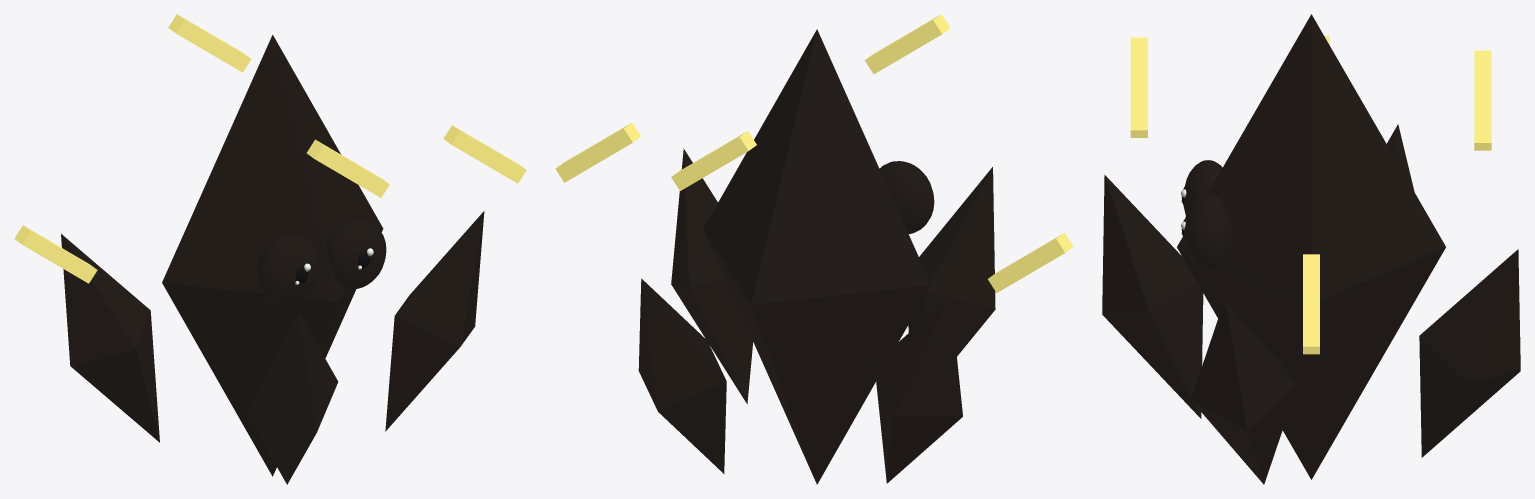
File: cristalord.glb
3 renders of one model, left to right at view 1: azimuth 30°, elevation 25°; view 2: azimuth 150°, elevation 25°; view 3: azimuth 270°, elevation 25°, orthographic. The views are drawn at different scales.
Visible parts, largest first — view 1: malha__contorno (×6), malha__semsombra (×4); view 2: malha__contorno (×6), malha__semsombra (×4); view 3: malha__contorno (×7), malha__semsombra (×3).
Boxes of the visible parts, x1=… form: malha__contorno (×6): x1=61, y1=35, x2=484, y2=484; malha__semsombra (×4): x1=14, y1=14, x2=526, y2=283; malha__contorno (×6): x1=638, y1=29, x2=995, y2=484; malha__semsombra (×4): x1=555, y1=14, x2=1073, y2=292; malha__contorno (×7): x1=1102, y1=14, x2=1520, y2=484; malha__semsombra (×3): x1=1130, y1=37, x2=1491, y2=354.
Size of the model in its own units: 1.44 by 1.22 by 0.9919.
